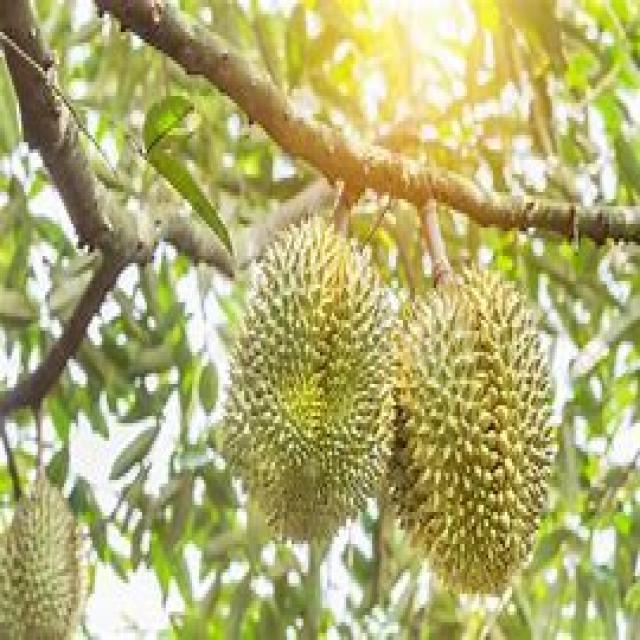mature: (222, 218, 394, 541), (388, 270, 552, 592)
